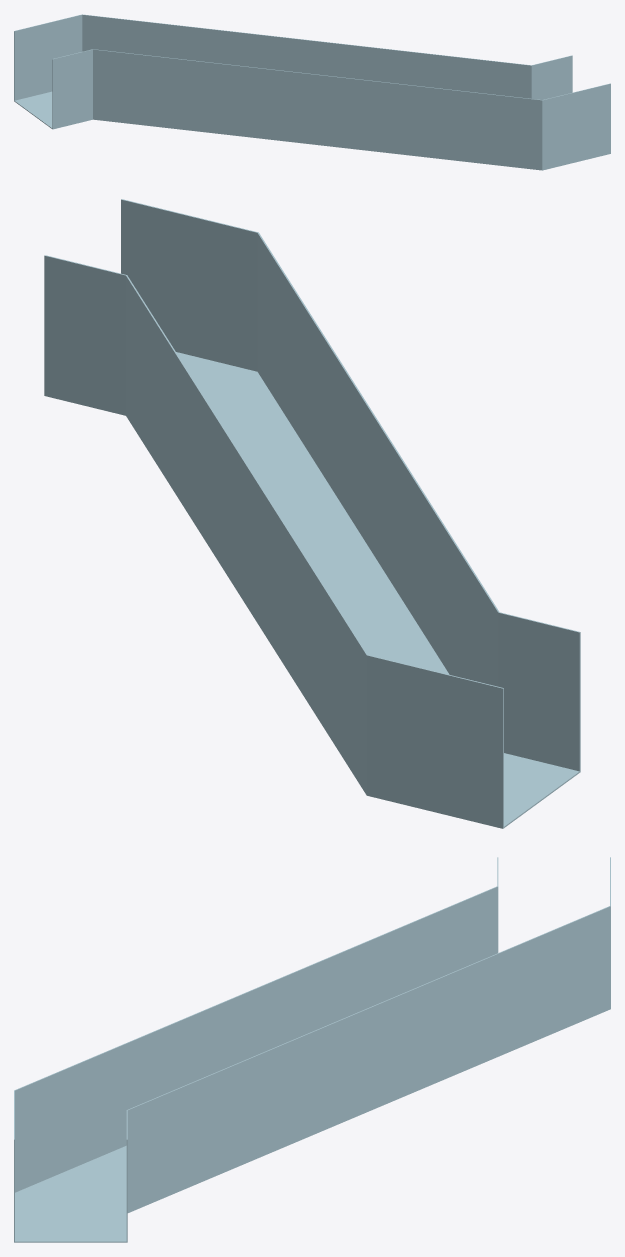
3 views of the same model, one above another, from view 1: azimuth 30°, elevation 25°; view 2: azimuth 150°, elevation 25°; view 3: azimuth 270°, elevation 25° (orthographic). The views are drawn at different scales.
Parts seen in each view (by area): view 1: L2-C18; view 2: L2-C18; view 3: L2-C18.
Part boxes in pixels (bbox=[...]): L2-C18: bbox=[14, 14, 610, 170]; L2-C18: bbox=[44, 199, 580, 828]; L2-C18: bbox=[14, 857, 610, 1242].
Bounding box in the file's own units: 1.17 × 0.2 × 1.05.
